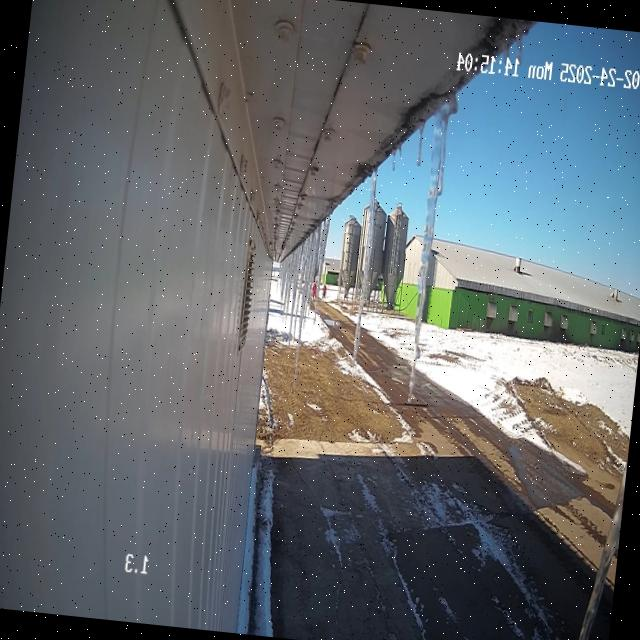Red uniform: (310, 279, 317, 310), (321, 283, 326, 300)
